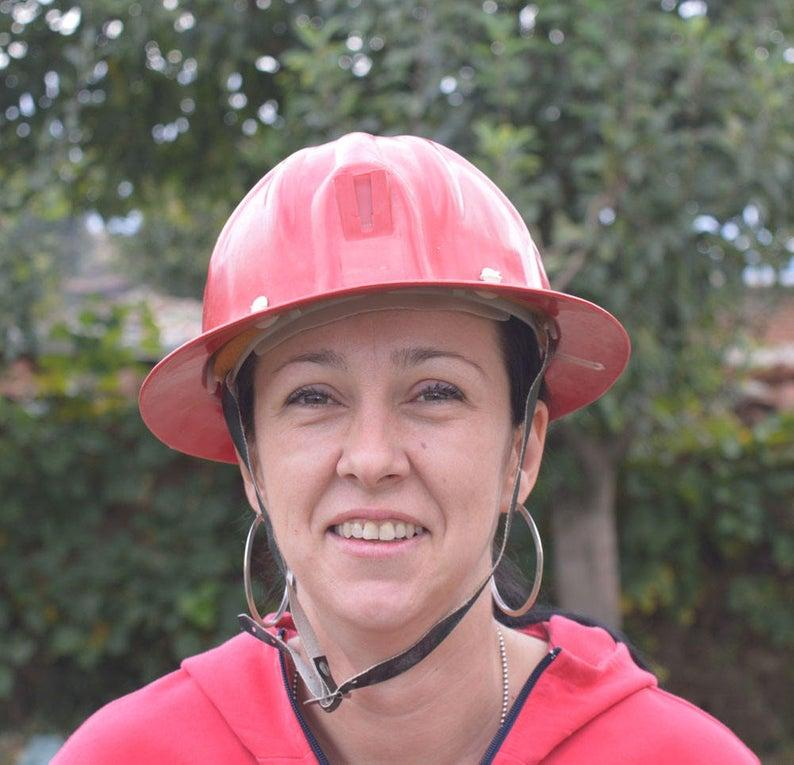helmet: (141, 133, 632, 470)
